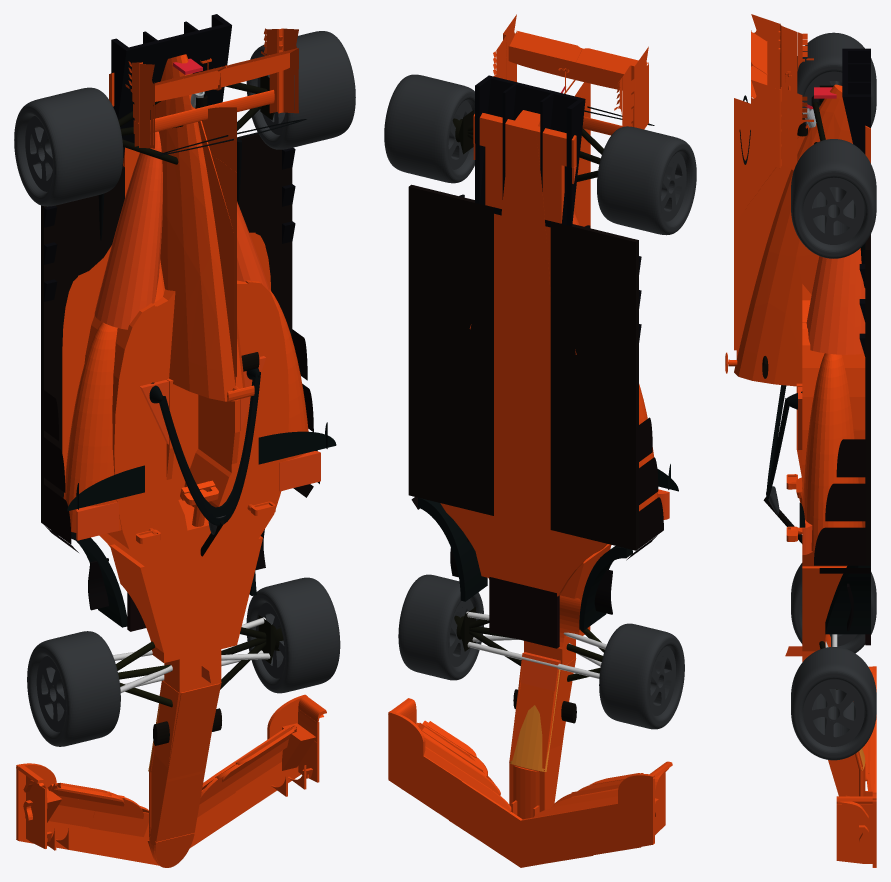
Rendered from tinker.obj.
3 renders of one model, left to right at view 1: azimuth 30°, elevation 25°; view 2: azimuth 150°, elevation 25°; view 3: azimuth 270°, elevation 25°, orthographic. The views are drawn at different scales.
Parts seen in each view (by area): view 1: group_0_15548677, group_0_2829873, group_0_524800, group_0_15548940, group_0_261, group_0_524289, group_0_2314, group_0_1544, group_0_460800, group_0_1800, group_0_0, group_0_921345 (+3 smaller); view 2: group_0_15548677, group_0_524800, group_0_2829873, group_0_261, group_0_852226, group_0_1800, group_0_524289, group_0_460800, group_0_16089887, group_0_15548940, group_0_0, group_0_196610; view 3: group_0_15548677, group_0_2829873, group_0_15548940, group_0_524289, group_0_261, group_0_1800, group_0_524800, group_0_1544, group_0_460800.
Part boxes in pixels (box(x1,y1,x2,y2)): group_0_15548677: box(16, 28, 326, 867); group_0_2829873: box(14, 31, 355, 746); group_0_524800: box(41, 132, 292, 524); group_0_15548940: box(76, 106, 320, 695); group_0_261: box(44, 14, 295, 301); group_0_524289: box(41, 329, 319, 544); group_0_2314: box(67, 422, 336, 511); group_0_1544: box(149, 368, 260, 525); group_0_460800: box(118, 75, 283, 689); group_0_1800: box(52, 531, 256, 627); group_0_0: box(113, 617, 270, 692); group_0_921345: box(116, 641, 172, 707); group_0_15548677: box(388, 14, 672, 867); group_0_524800: box(408, 184, 638, 550); group_0_2829873: box(384, 74, 696, 729); group_0_261: box(475, 75, 641, 342); group_0_852226: box(489, 577, 559, 648); group_0_1800: box(418, 497, 632, 630); group_0_524289: box(636, 417, 663, 548); group_0_460800: box(452, 110, 603, 665); group_0_16089887: box(510, 669, 560, 771); group_0_15548940: box(469, 143, 669, 690); group_0_0: box(466, 611, 606, 678); group_0_196610: box(450, 538, 612, 614); group_0_15548677: box(725, 14, 876, 867); group_0_2829873: box(766, 32, 876, 760); group_0_15548940: box(785, 157, 870, 656); group_0_524289: box(814, 439, 865, 565); group_0_261: box(842, 48, 870, 356); group_0_1800: box(825, 565, 870, 634); group_0_524800: box(865, 234, 870, 565); group_0_1544: box(766, 385, 802, 502); group_0_460800: box(812, 85, 837, 689).
Size of the model in its own units: 58 by 160 by 27.04.
